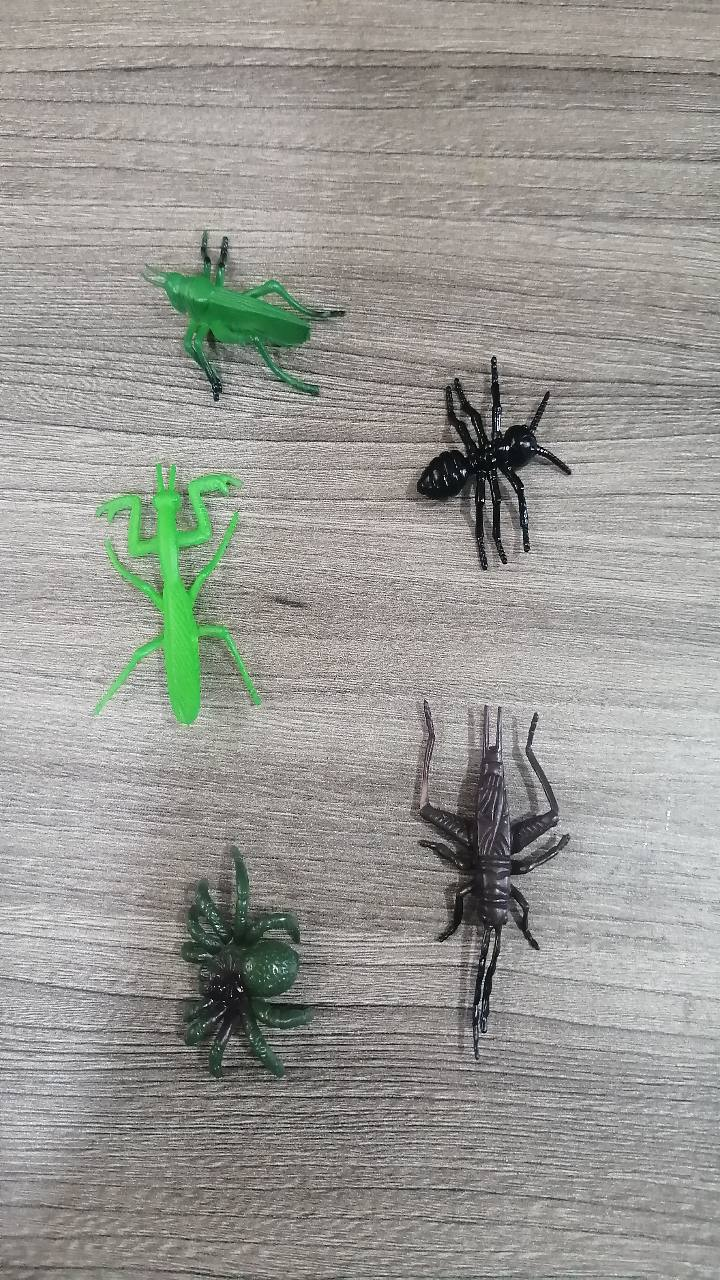intruso: (380, 654, 597, 1079), (118, 809, 377, 1108), (77, 420, 277, 757), (123, 200, 369, 439), (386, 305, 589, 586)
